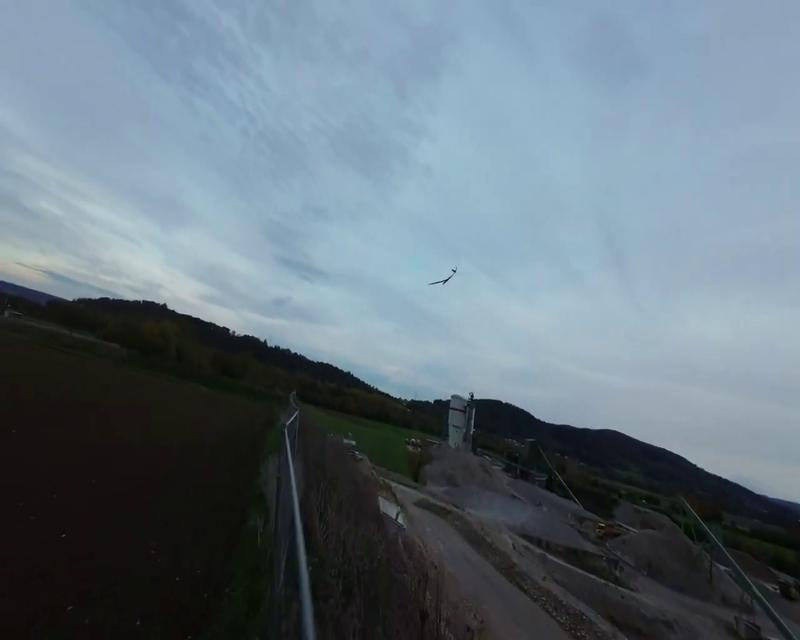UAV: (427, 265, 457, 286)
